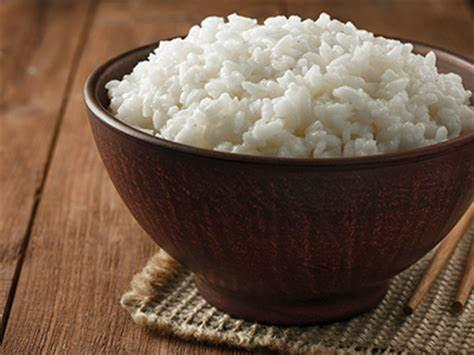WhiteRice: (105, 11, 474, 159)
